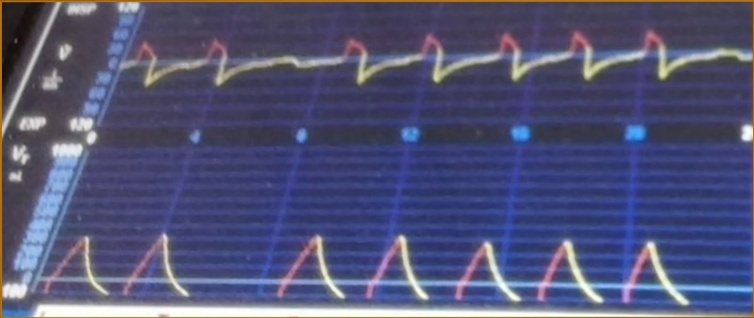Ineffective_effort Flow: (125, 21, 752, 115)
Ineffective_effort Volume: (43, 226, 694, 304)
